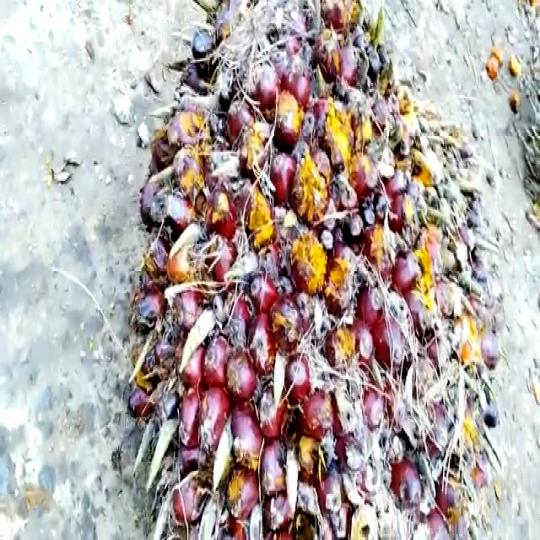masak: (118, 0, 494, 540)
